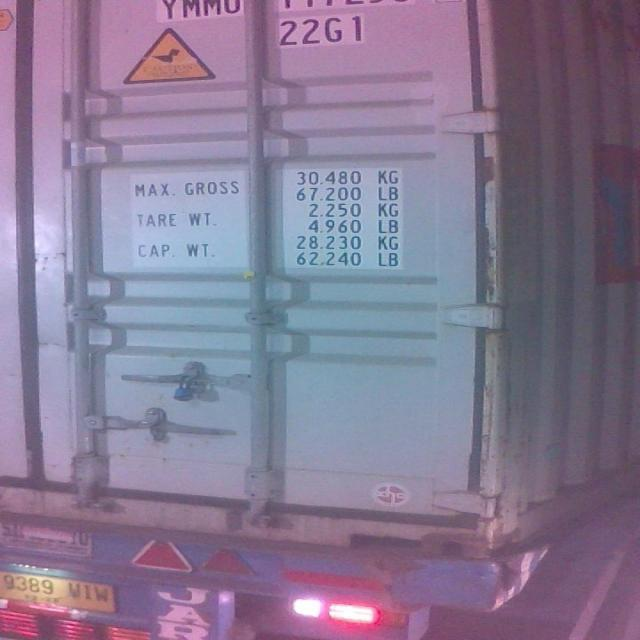seal: (170, 368, 206, 399)
